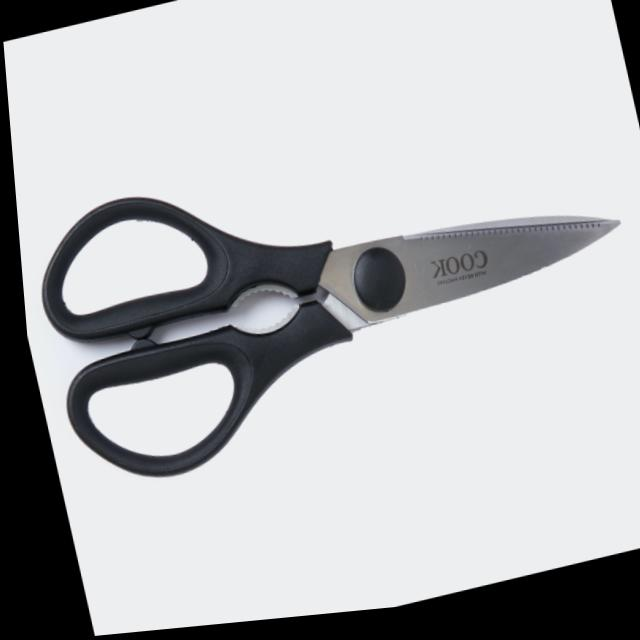scissor: (11, 82, 640, 499)
